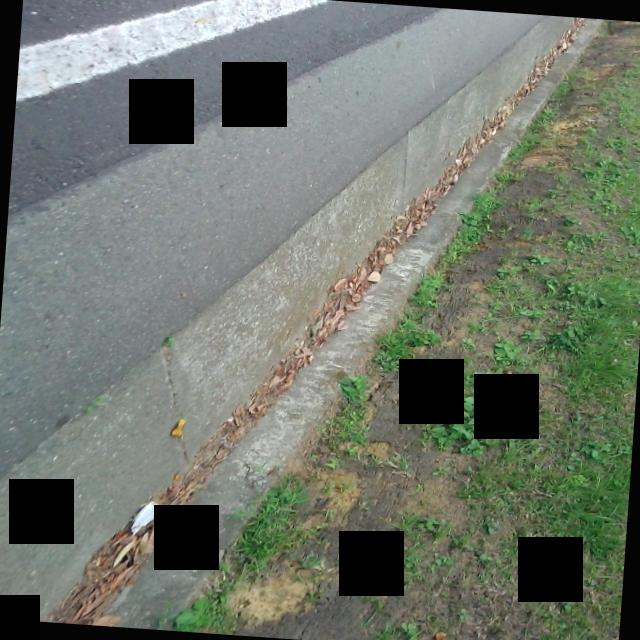DITCH: (0, 0, 597, 640), (0, 0, 572, 640)
